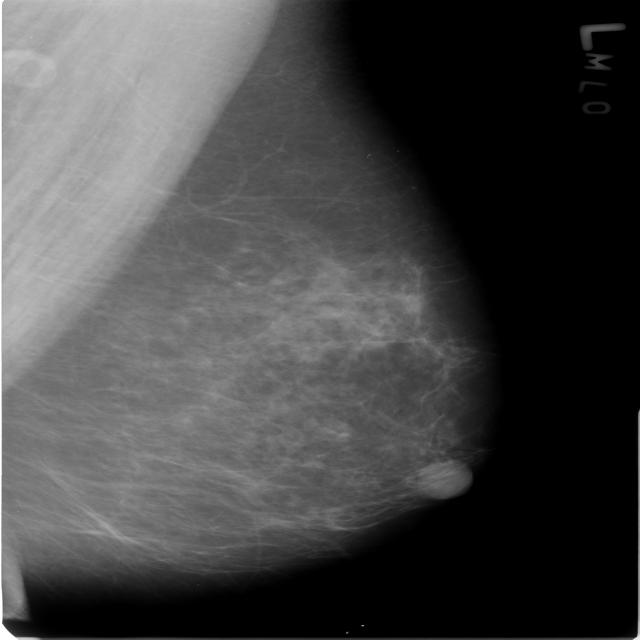normal: (0, 0, 483, 611)
